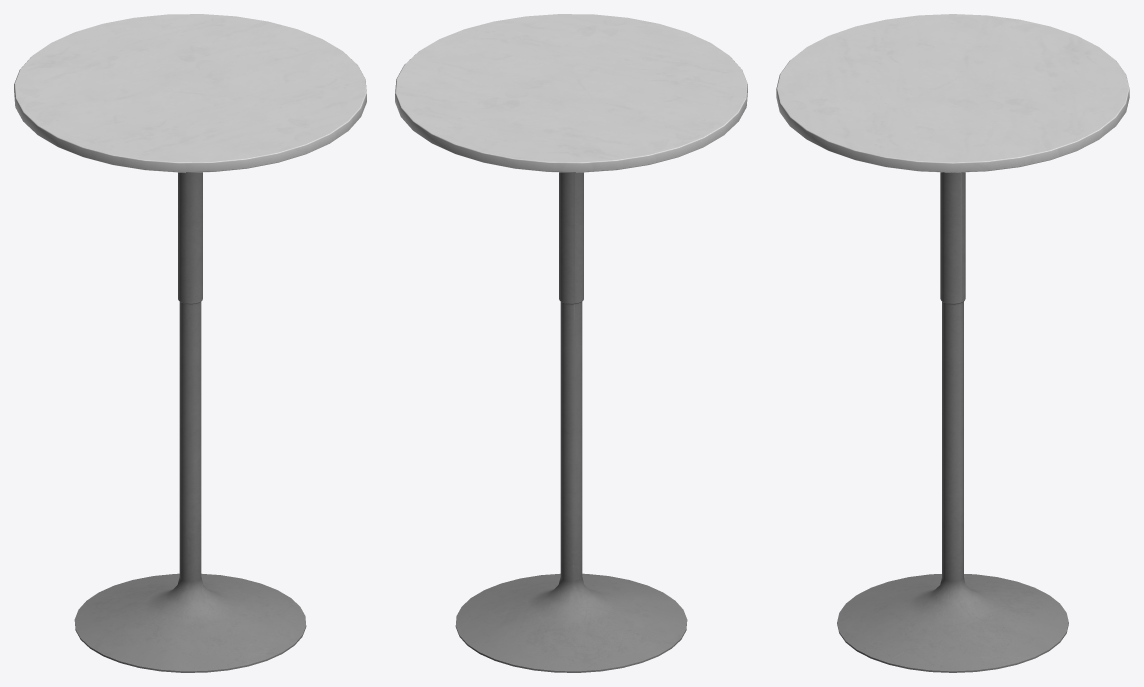
The model's file is SM_BarTable_01.fbx.
3 renders of one model, left to right at view 1: azimuth 30°, elevation 25°; view 2: azimuth 150°, elevation 25°; view 3: azimuth 270°, elevation 25°, orthographic.
Visible parts, largest first — view 1: SM_BarTable_01_LOD0; view 2: SM_BarTable_01_LOD0; view 3: SM_BarTable_01_LOD0.
Part boxes in pixels (x1,y1,x2,y2): SM_BarTable_01_LOD0: (14, 14, 366, 672); SM_BarTable_01_LOD0: (395, 14, 747, 672); SM_BarTable_01_LOD0: (776, 14, 1129, 672).
Bounding box in the file's own units: 60.96 × 60.96 × 102.
Materials: 1 (1 with a texture image).
